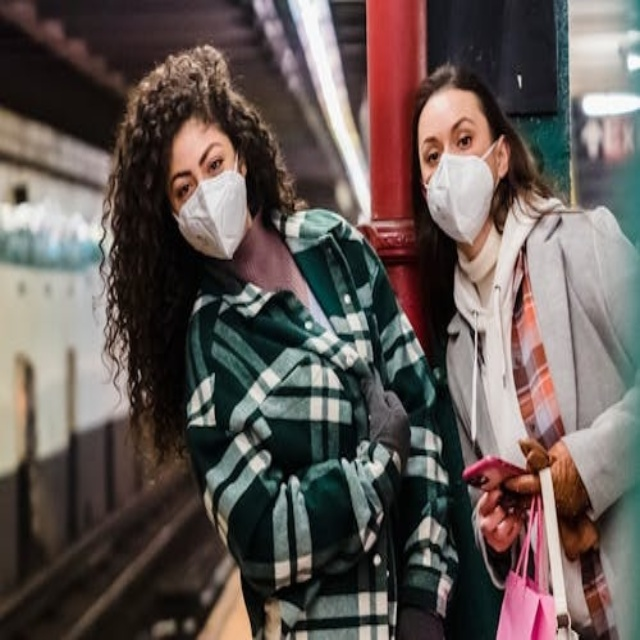Guantes: (513, 431, 586, 529), (356, 359, 412, 452)
Mascara: (424, 138, 500, 244), (172, 158, 250, 261)
Sin_gafas: (178, 133, 225, 198), (421, 111, 476, 156)
Sin_guantes: (475, 482, 526, 557)
